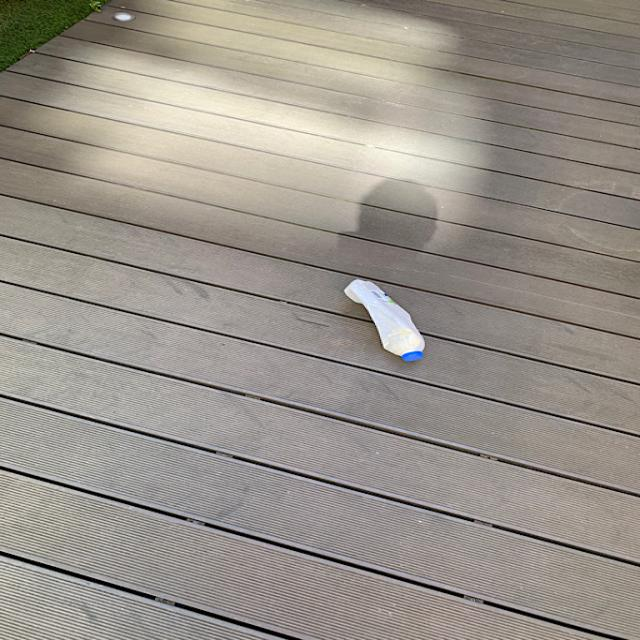litter: (344, 278, 428, 367)
